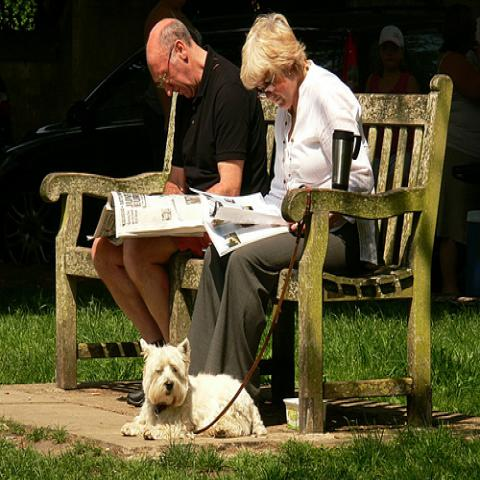car: (1, 30, 446, 288)
